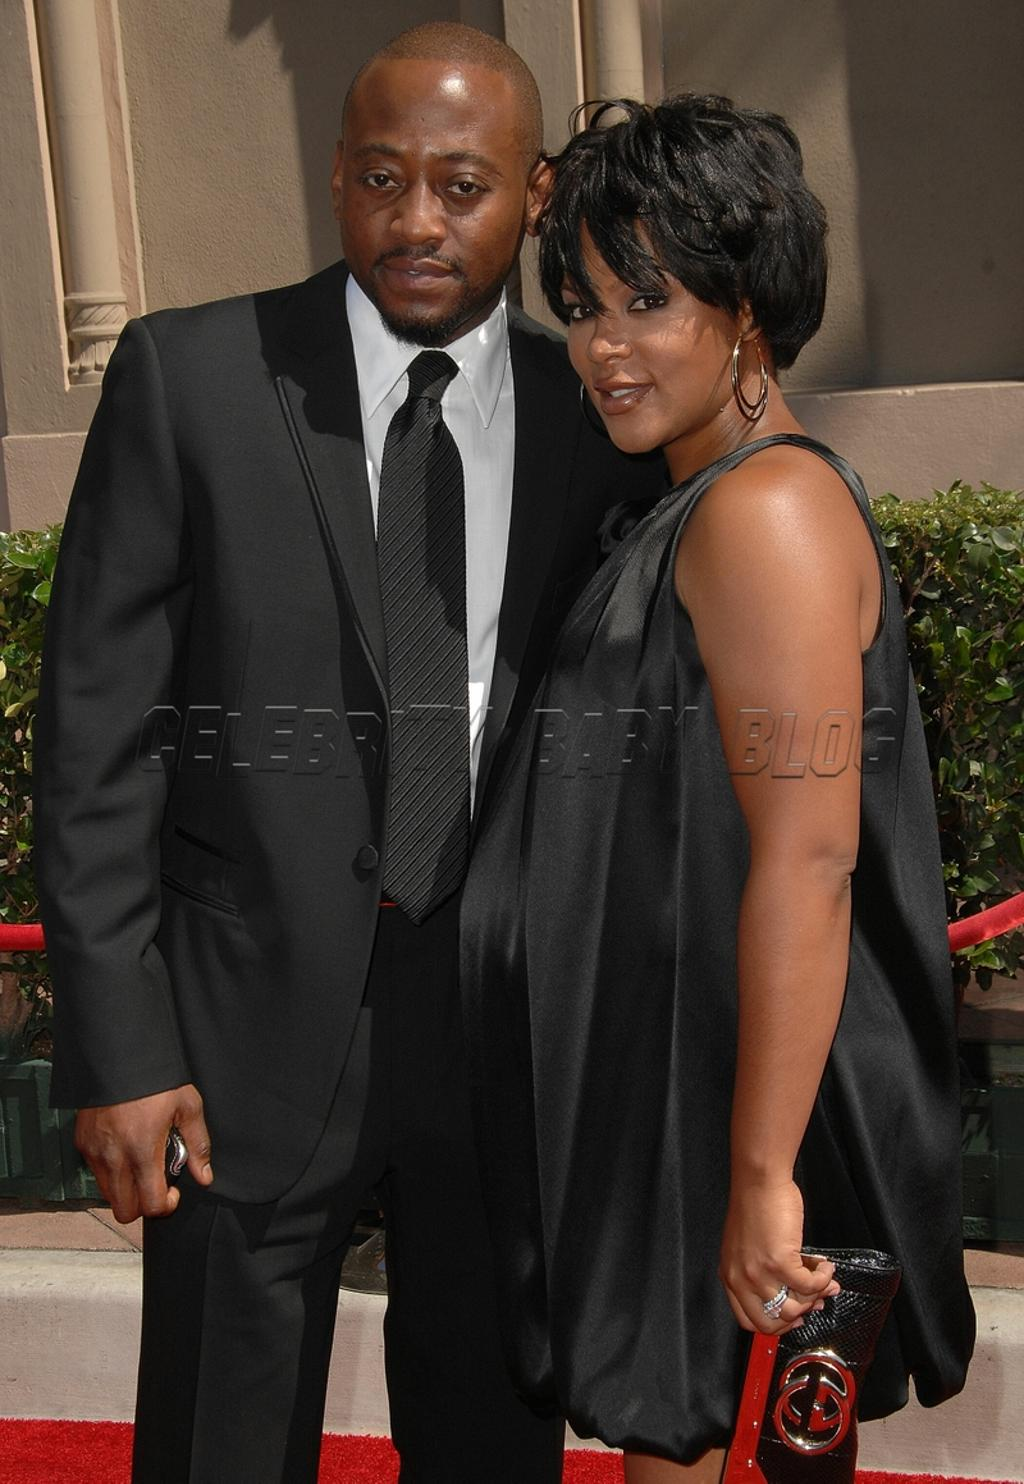face: (563, 200, 734, 447), (351, 75, 519, 327)
